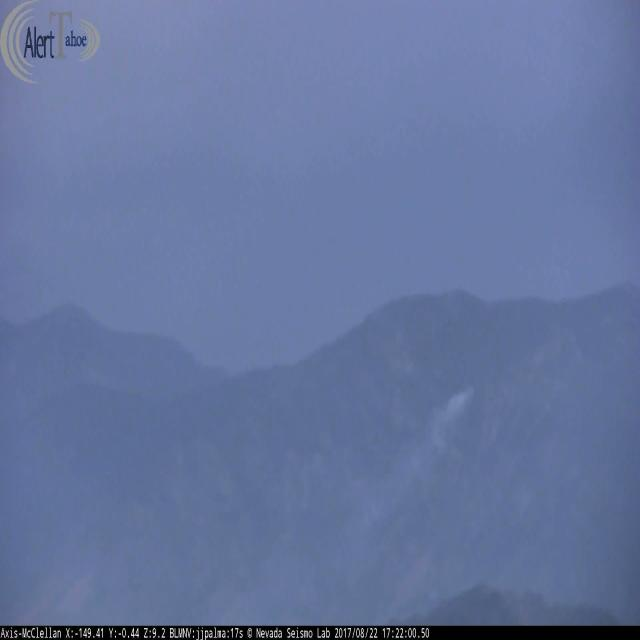smoke: (429, 380, 474, 450)
